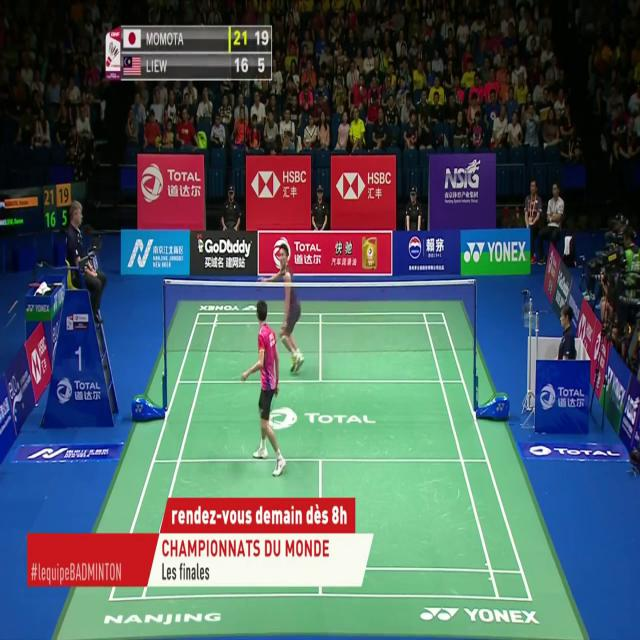Shuttlecock: (225, 236, 231, 248)
